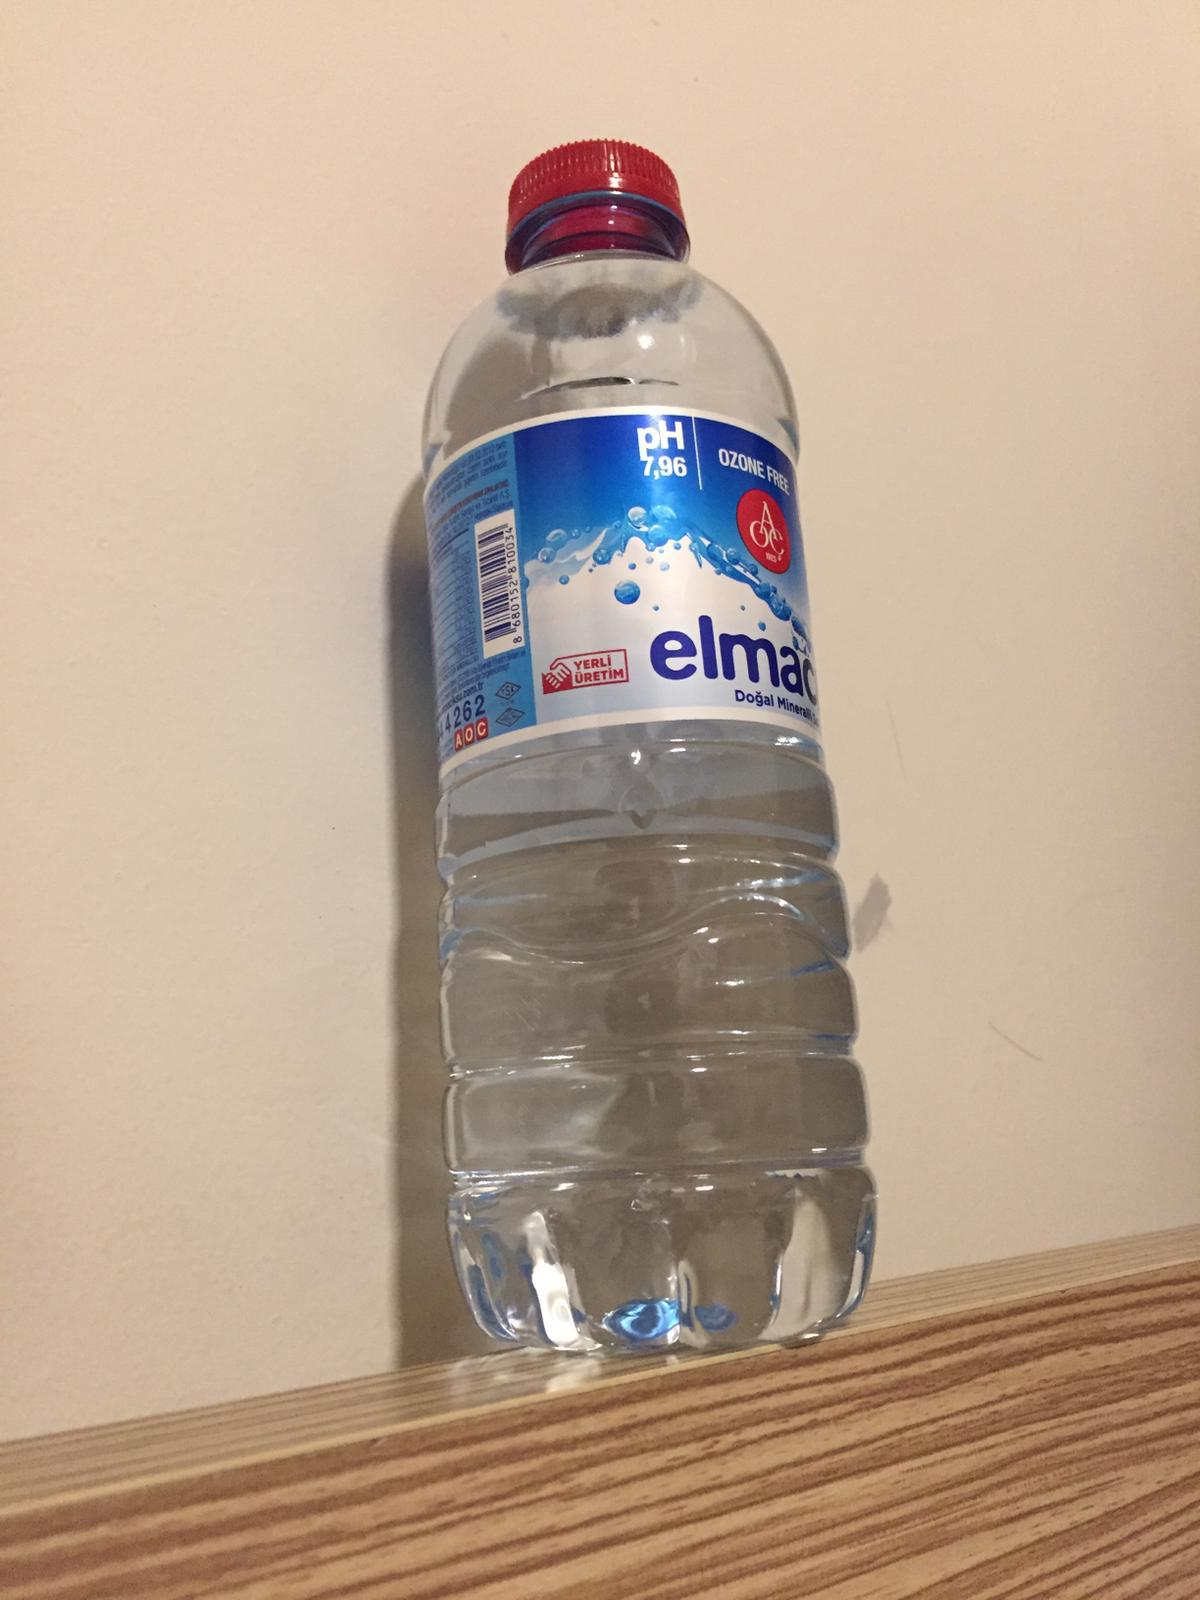bottle: (408, 135, 882, 1356)
